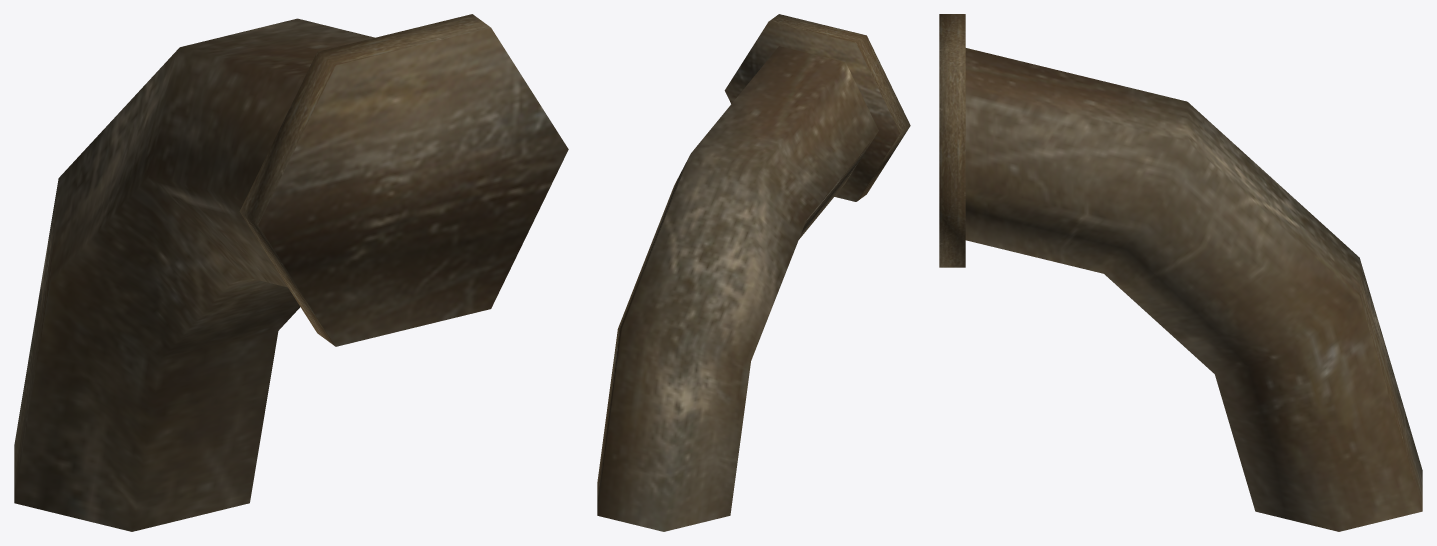
The model's file is small_brown_4_elbow.fbx.
The picture shows the model from 3 angles, left to right: view 1: azimuth 30°, elevation 25°; view 2: azimuth 150°, elevation 25°; view 3: azimuth 270°, elevation 25°; orthographic projection. The views are drawn at different scales.
Parts seen in each view (by area): view 1: polySurface664; view 2: polySurface664; view 3: polySurface664.
Boxes of the visible parts, <box> form: polySurface664: <box>14,14,568,531</box>; polySurface664: <box>597,14,910,531</box>; polySurface664: <box>939,14,1422,531</box>.
Bounding box in the file's own units: 0.3294 × 0.6426 × 0.6254.
